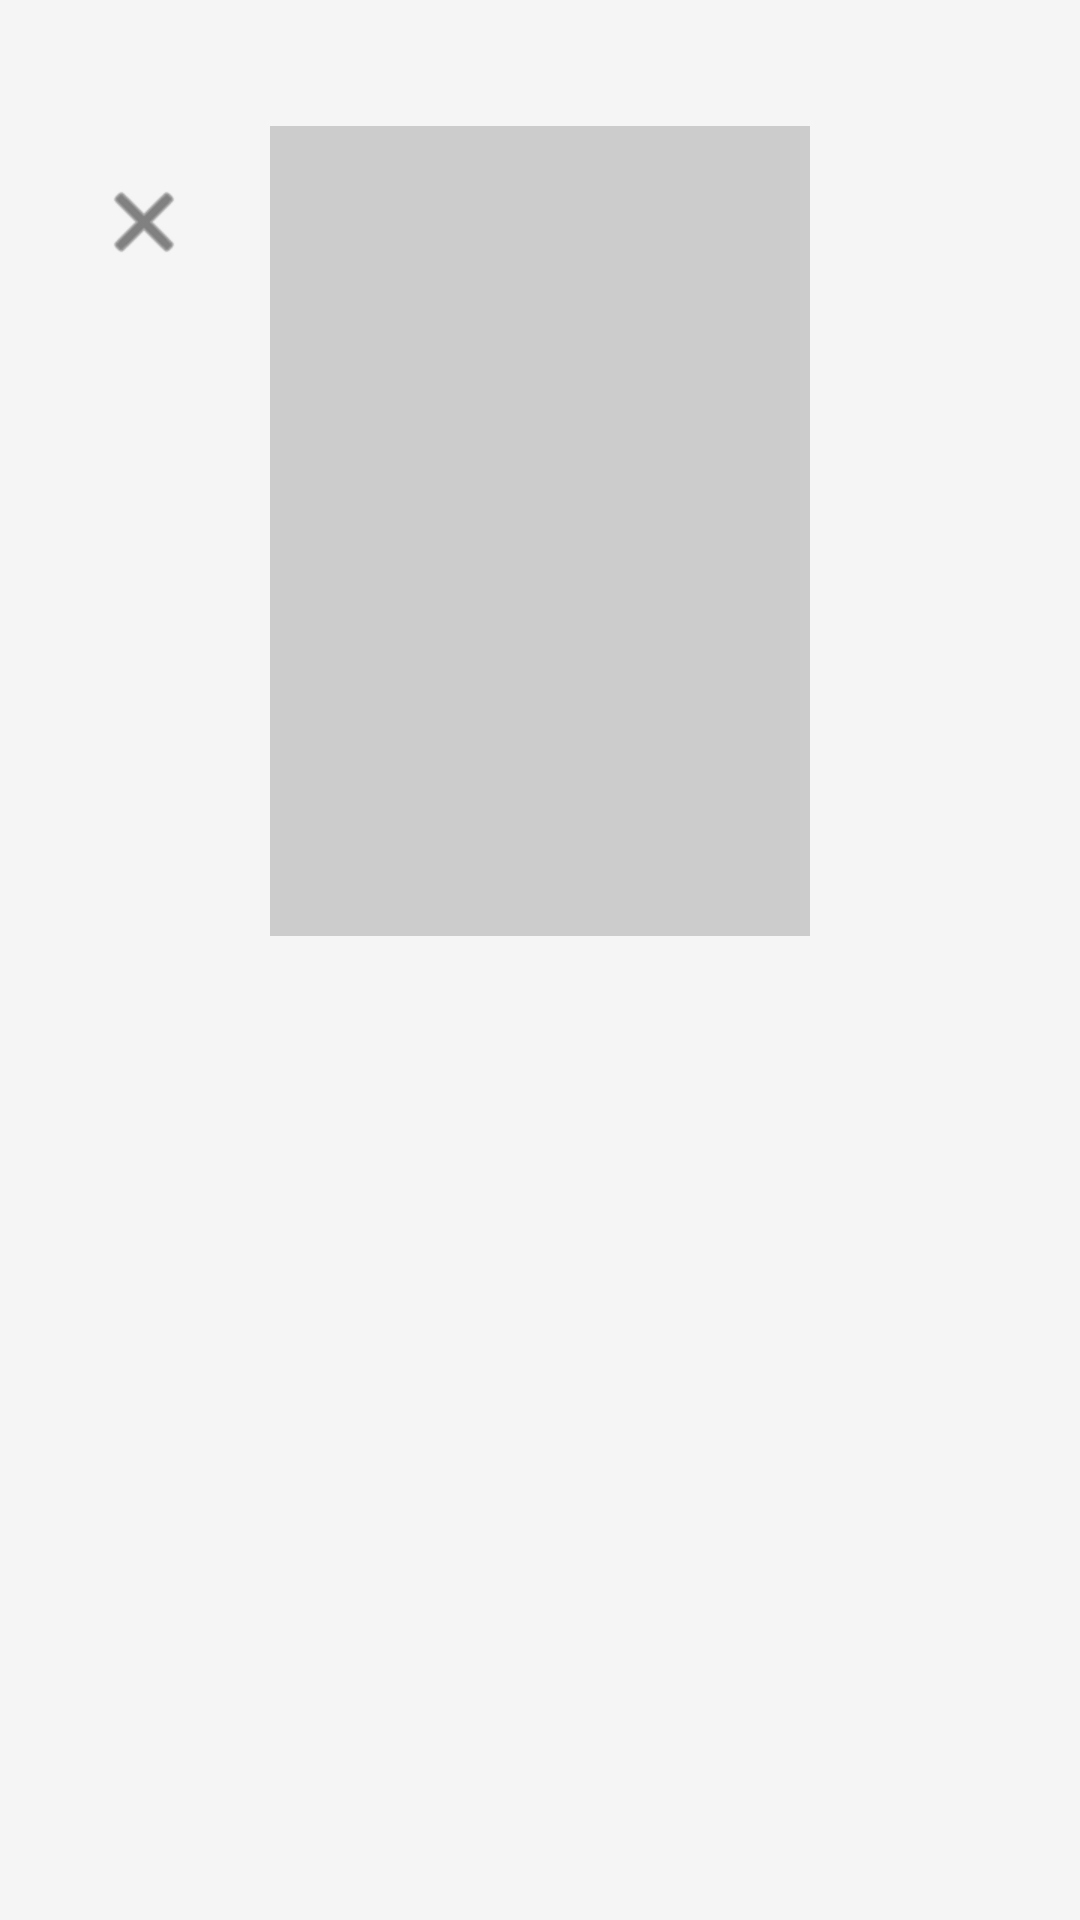

Point at icon controls on the screen. Image size 1080w x 1920h, points as [x,y].
close clear cancel: [144,222]
